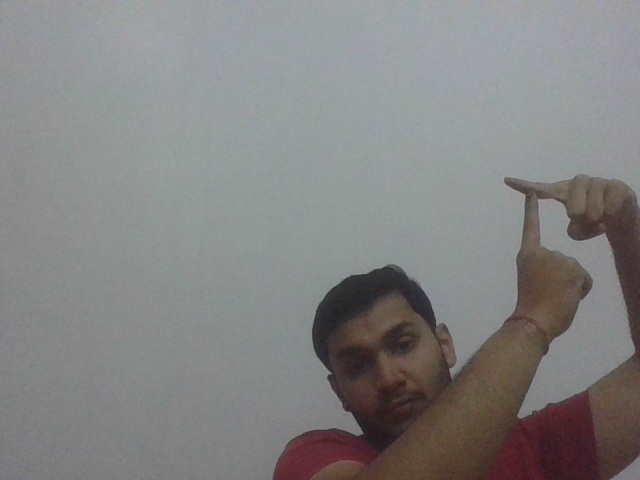T: (501, 171, 562, 244)
